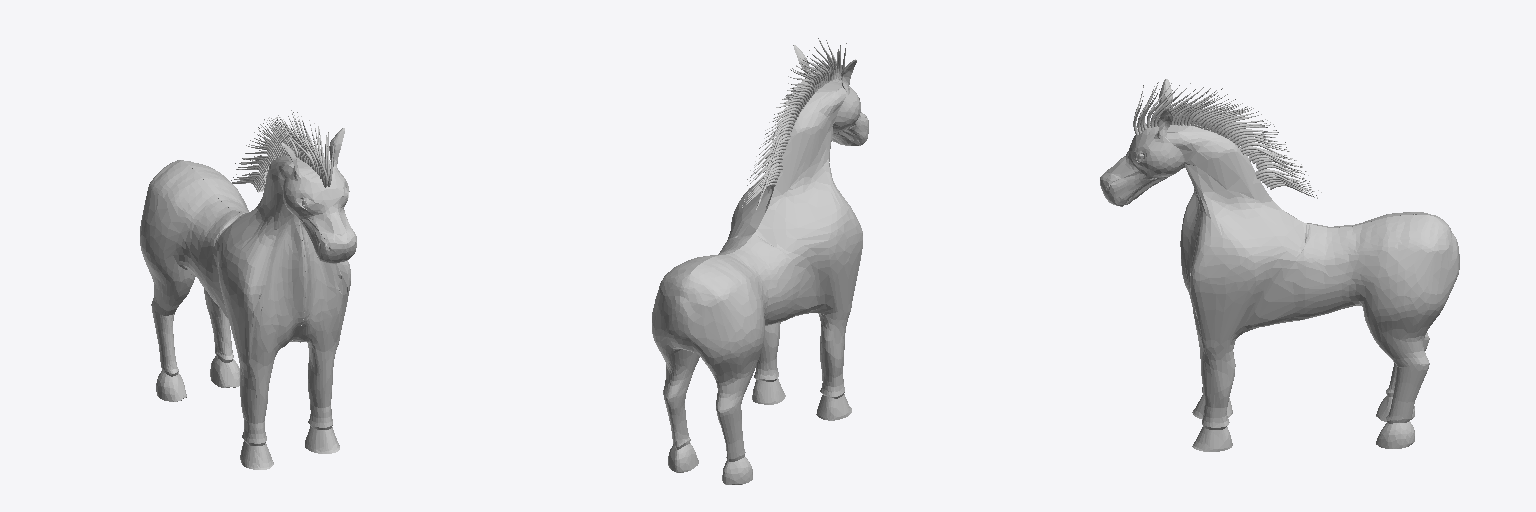
Rendered from horse_test_10.obj.
3 views of the same model, side by side, from view 1: azimuth 30°, elevation 25°; view 2: azimuth 150°, elevation 25°; view 3: azimuth 270°, elevation 25° (orthographic).
Visible parts, largest first — view 1: Body_Cube.002, Mane_Mesh; view 2: Body_Cube.002, Mane_Mesh; view 3: Body_Cube.002, Mane_Mesh.
Boxes of the visible parts, x1=… form: Body_Cube.002: x1=140, y1=128, x2=356, y2=469; Mane_Mesh: x1=231, y1=110, x2=334, y2=192; Body_Cube.002: x1=652, y1=45, x2=868, y2=484; Mane_Mesh: x1=742, y1=38, x2=846, y2=209; Body_Cube.002: x1=1100, y1=79, x2=1459, y2=451; Mane_Mesh: x1=1133, y1=82, x2=1321, y2=198.
Size of the model in its own units: 1.48 by 4.51 by 4.23.